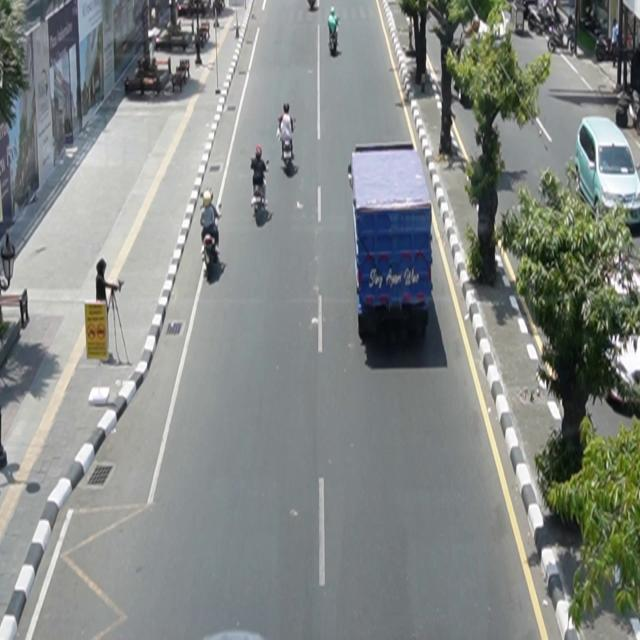car: (575, 116, 640, 231)
truck: (348, 141, 434, 343)
